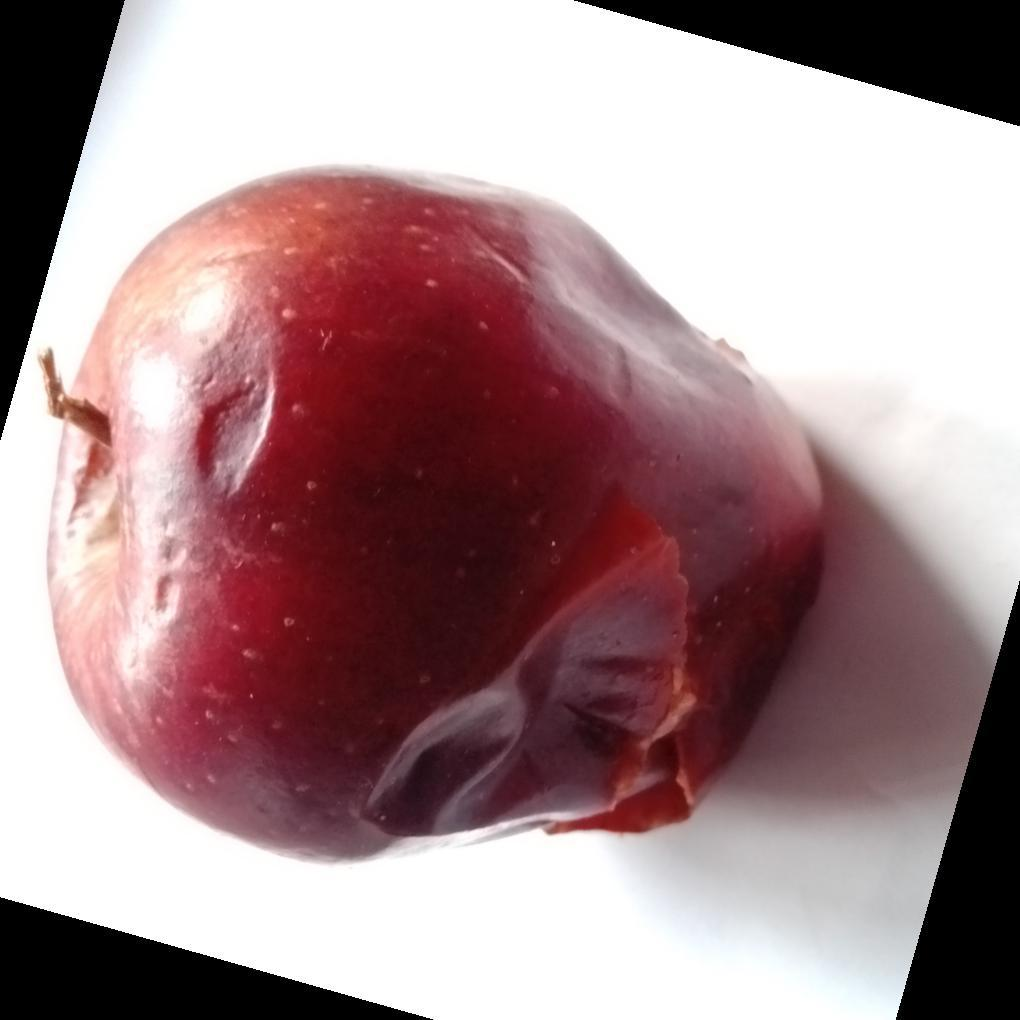FreshOrange: (9, 0, 1020, 1011)
